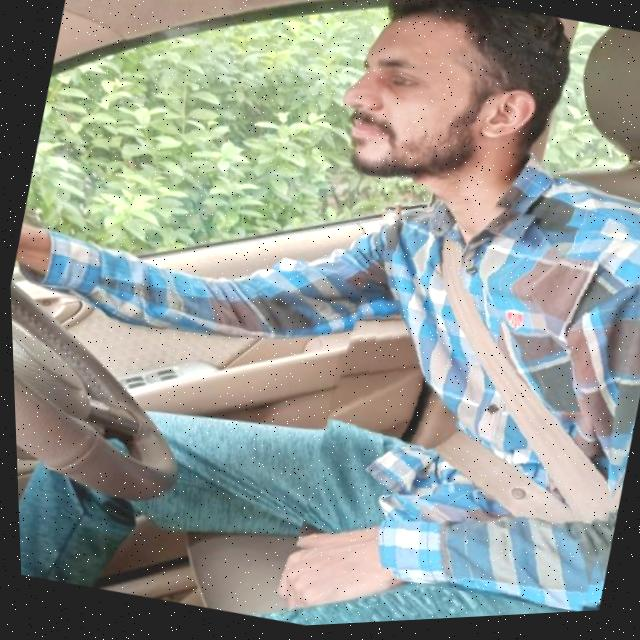seatbelt: (283, 172, 640, 629)
